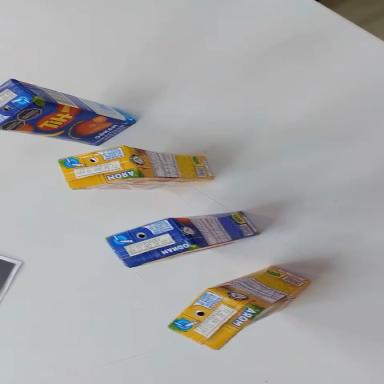HIT-MANGO: (0, 76, 138, 166), (105, 197, 259, 272)
HIT-MORA: (163, 241, 314, 365), (59, 146, 214, 189)
cara_F: (0, 91, 134, 162)
